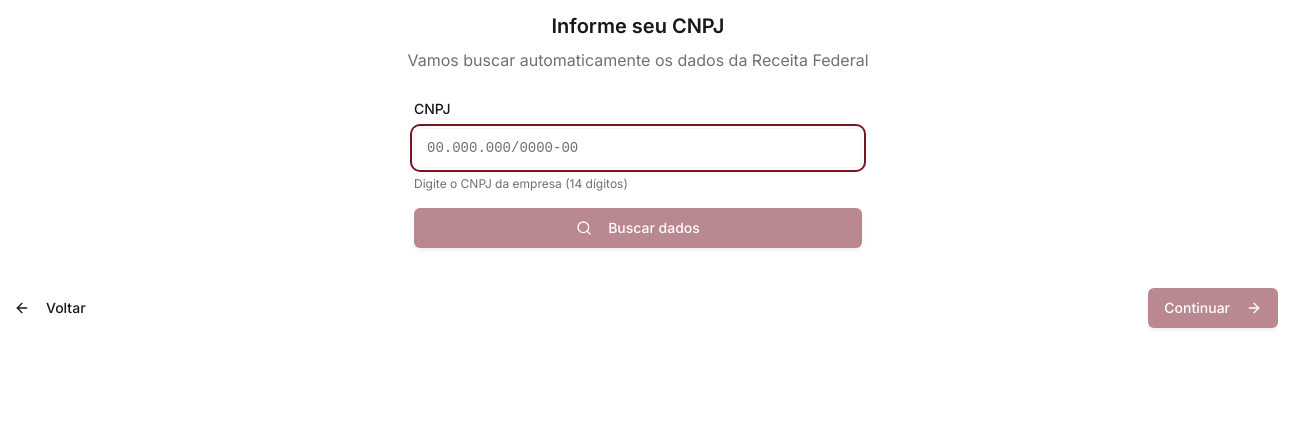
CnpjInput › search functionality › shows error message on failed search
In the field labelled "CNPJ": (638, 148) [414, 128, 862, 168], type "11222333000181"
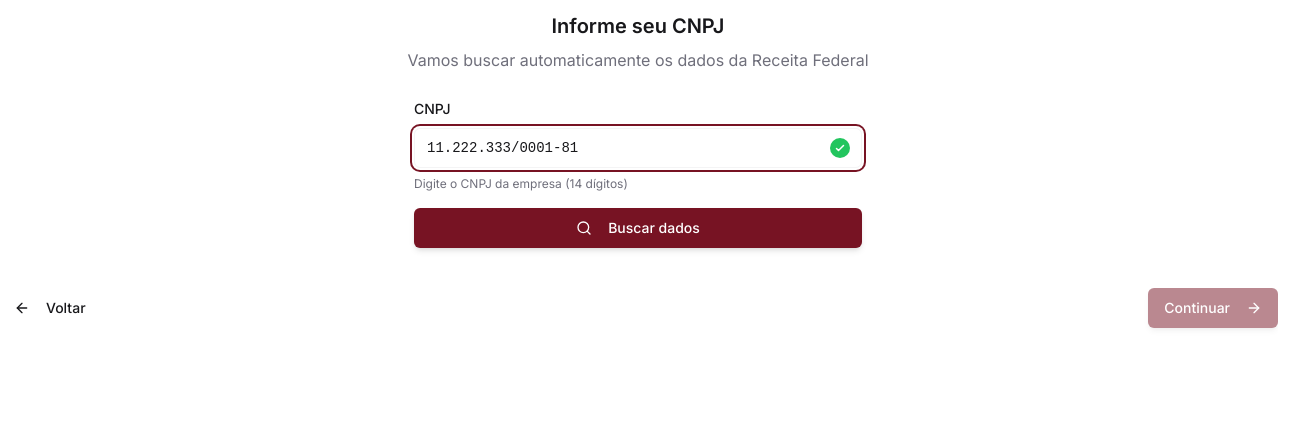
Click the button "Buscar dados": (638, 228) [414, 208, 862, 248]
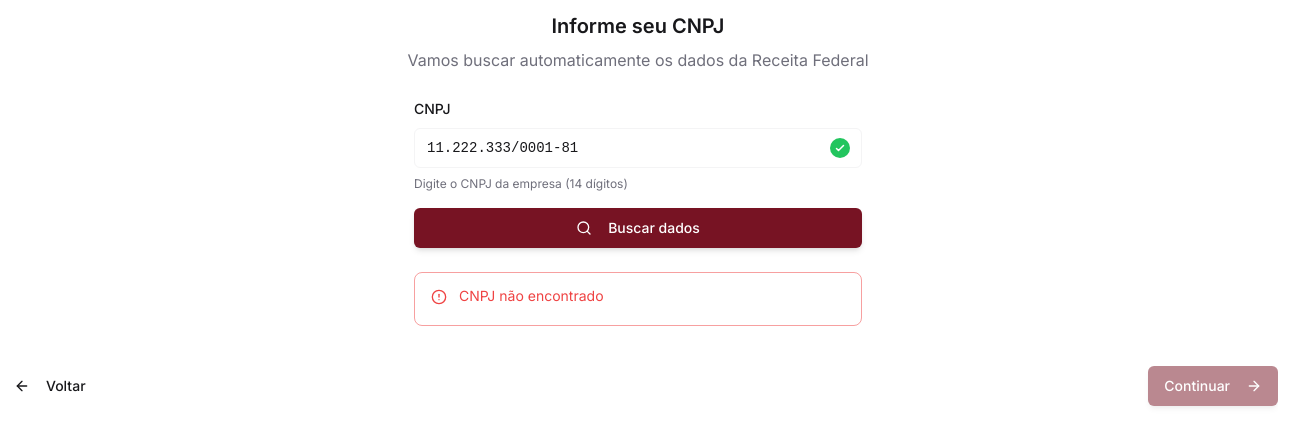
Now the text "CNPJ não encontrado" is shown, box [459, 287, 604, 304]
